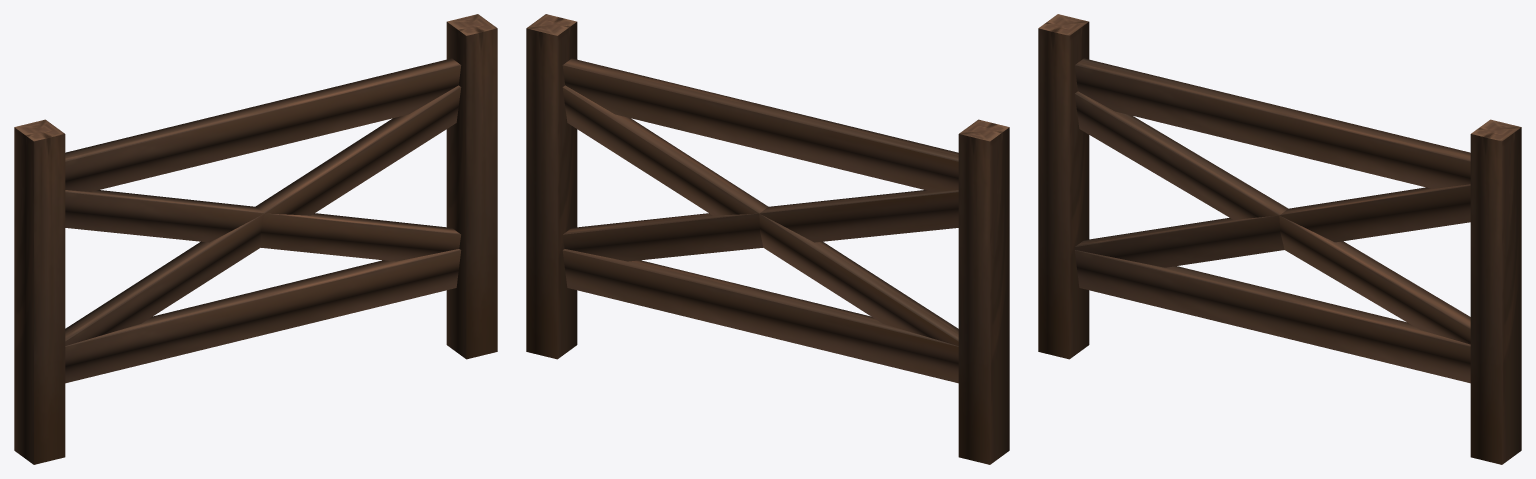
File: OutdoorM_Fence_b_single.FBX
3 renders of one model, left to right at view 1: azimuth 30°, elevation 25°; view 2: azimuth 150°, elevation 25°; view 3: azimuth 330°, elevation 25°, orthographic.
Visible parts, largest first — view 1: OutdoorM_Fence_b_single; view 2: OutdoorM_Fence_b_single; view 3: OutdoorM_Fence_b_single.
Boxes of the visible parts, x1,y1,x2,y2 form: OutdoorM_Fence_b_single: [14, 14, 497, 464]; OutdoorM_Fence_b_single: [526, 14, 1009, 464]; OutdoorM_Fence_b_single: [1038, 14, 1521, 464].
Size of the model in its own units: 20.23 by 13.48 by 1.48.
